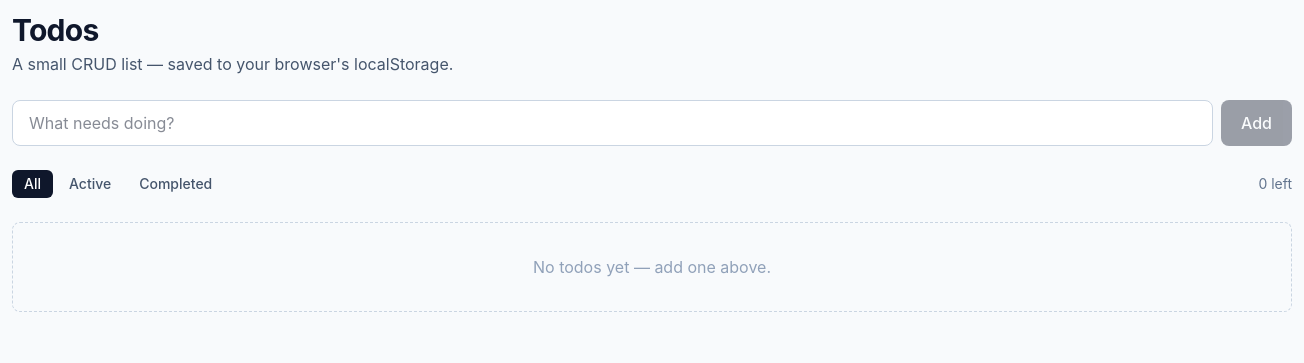
<Todos /> › adds todos and updates the remaining counter
The image size is (1304, 363).
In the field with placeholder "What needs doing?": (612, 123) [12,100,1213,146], type "Buy milk"
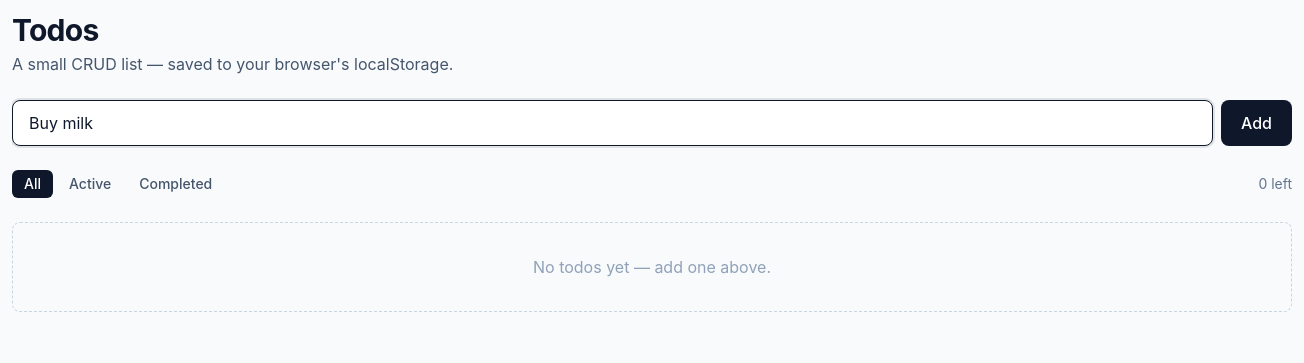
Click the button "Add": (1256, 123) [1221,100,1292,146]
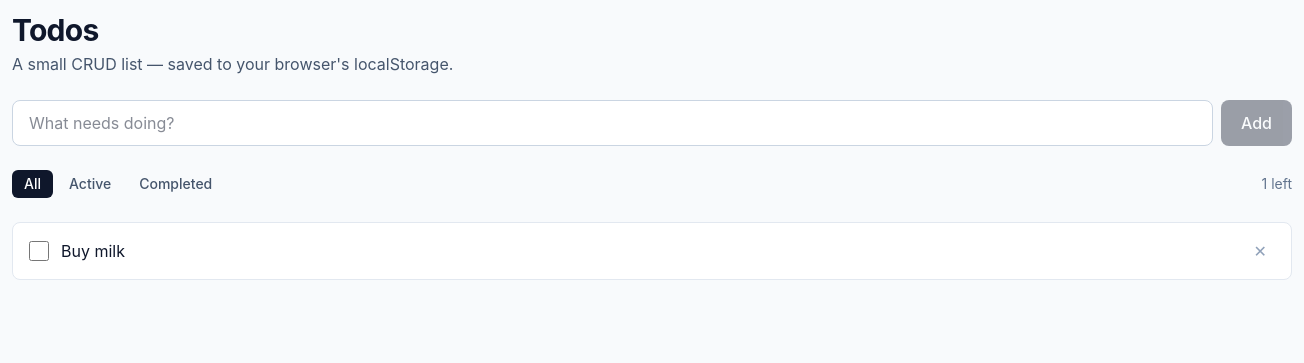
In the field with placeholder "What needs doing?": (612, 123) [12,100,1213,146], type "Ship feature"
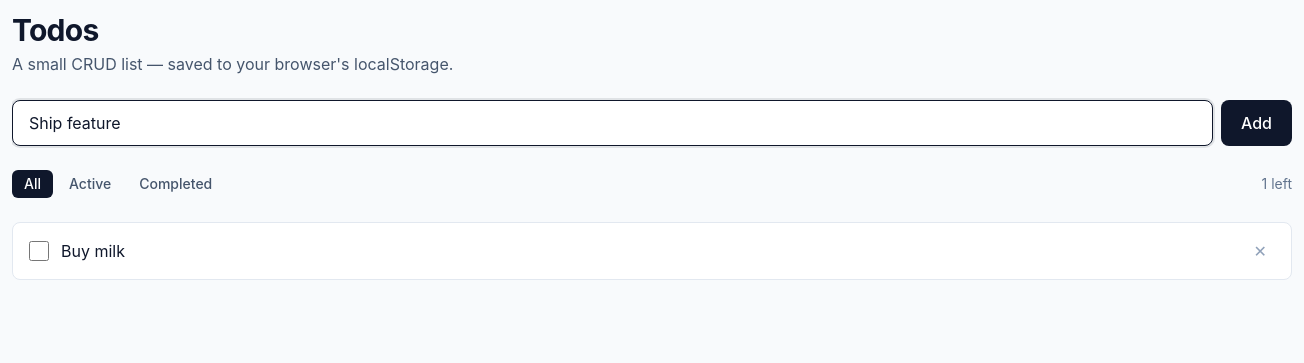
Click the button "Add": (1256, 123) [1221,100,1292,146]
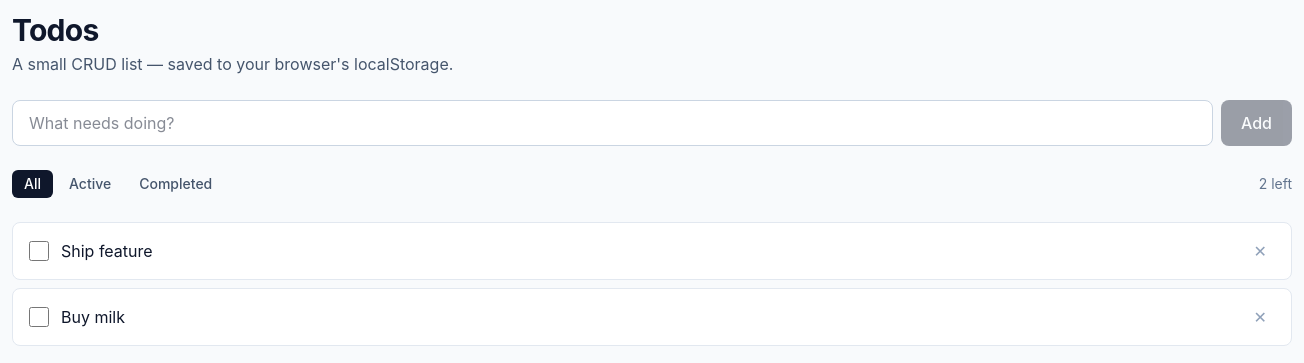
Result: the text "Buy milk" is shown at [61,307,125,327]
Result: the text "Ship feature" is shown at [61,241,153,261]
Result: the text "2 left" is shown at [1259,174,1292,194]
